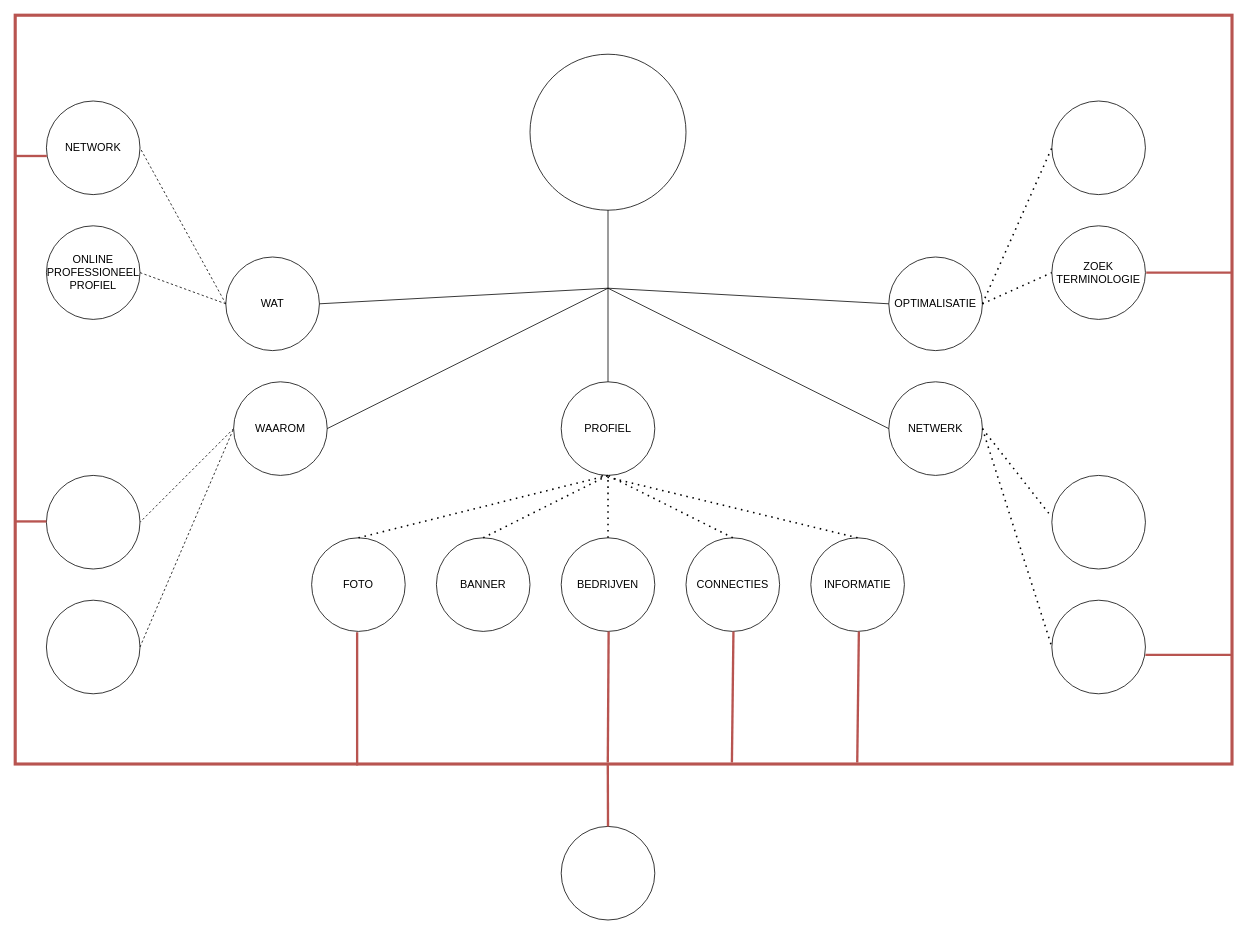
This 1247x934 diagram has some shape labels left out. Each missing label, with the centre of its shape:
"BETERE PROSPECTIES" belongs at pixel 93 646.
"KENNISSEN" belongs at pixel 1098 522.
"LinkedIn" belongs at pixel 607 131.
"PARTNER PROSPECTIES" belongs at pixel 1098 646.
"RECRUITERS" belongs at pixel 607 873.
"TIPS & TRICKS" belongs at pixel 1098 147.
"VERWACHT WERKWERELD" belongs at pixel 93 522.
